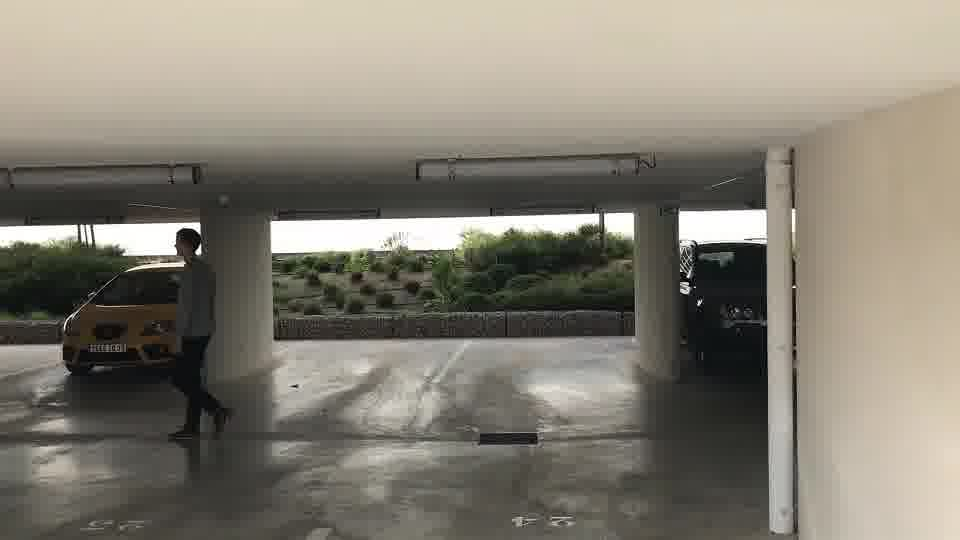jugador: (161, 222, 236, 454)
